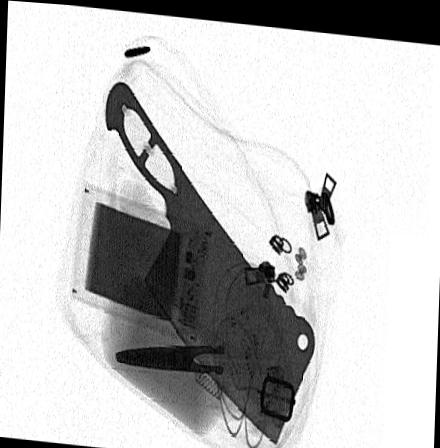Knife: (106, 79, 313, 442)
Powerbank: (67, 176, 212, 340)
Scissors: (116, 296, 283, 416)
